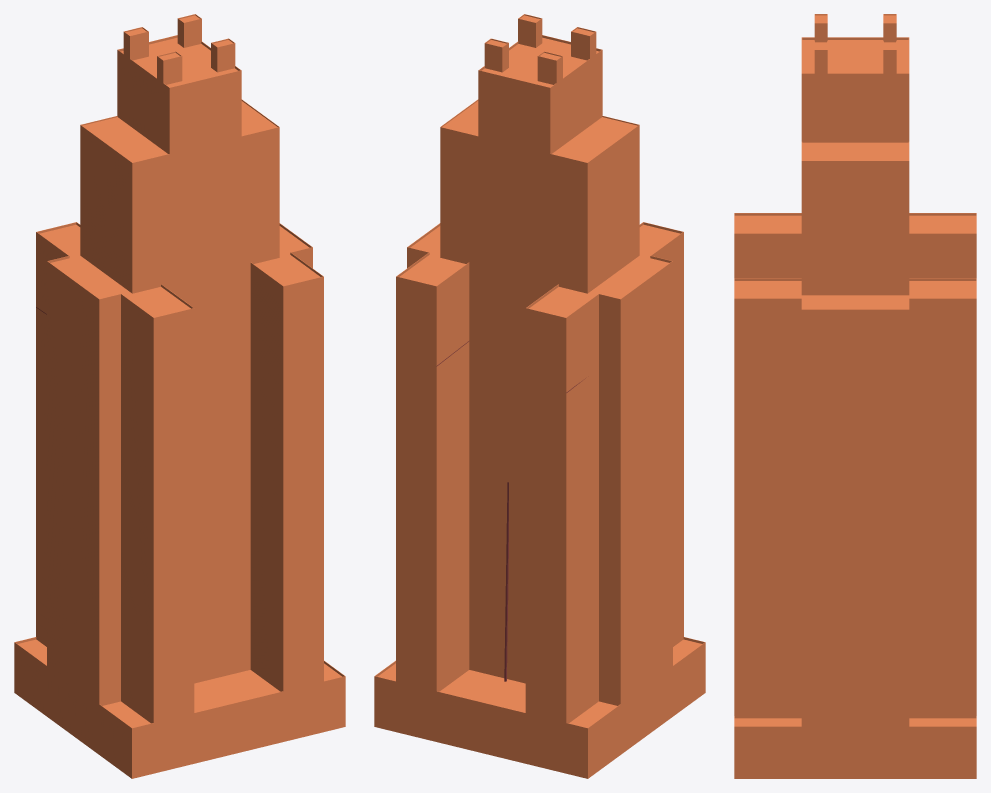
File: Building_05_5.FBX
3 renders of one model, left to right at view 1: azimuth 30°, elevation 25°; view 2: azimuth 150°, elevation 25°; view 3: azimuth 270°, elevation 25°, orthographic. The views are drawn at different scales.
Parts seen in each view (by area): view 1: Building_05_5; view 2: Building_05_5; view 3: Building_05_5.
Boxes of the visible parts, <box> form: Building_05_5: <box>14,14,345,778</box>; Building_05_5: <box>374,14,705,778</box>; Building_05_5: <box>734,14,976,778</box>.
Bounding box in the file's own units: 104638 × 314981 × 99860.
